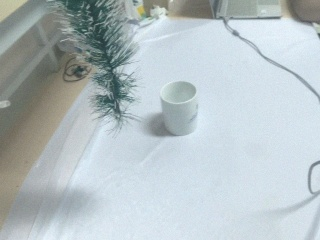cup: (148, 79, 200, 137)
